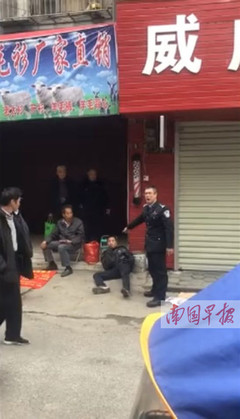fall: (87, 232, 136, 300)
